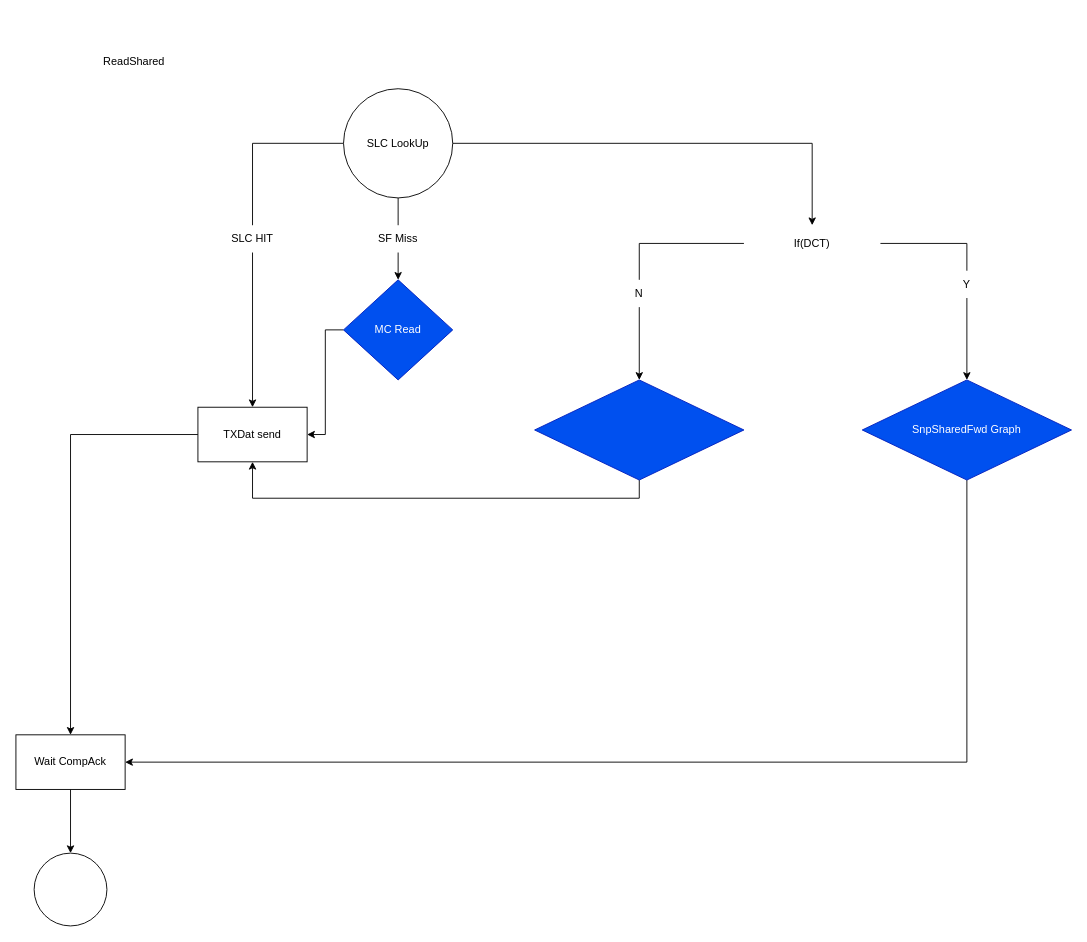
This 1087x942 diagram has some shape labels left out. The shapes that lost their labels are listed below. From the top down, each one's centre as x and y in pixels, then its label:
the point at 639,429: SnpShared Graph
the point at 70,889: Exit
